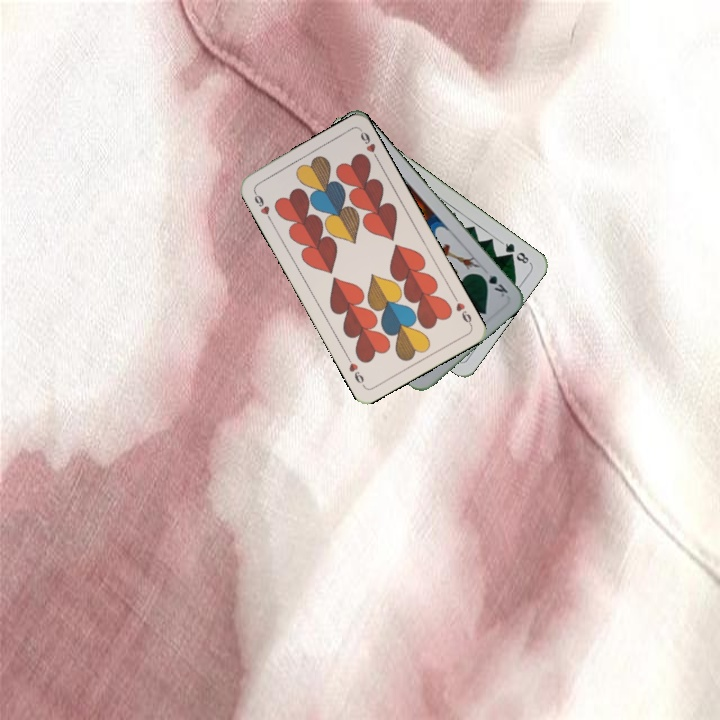G8: (498, 238, 533, 266)
GK: (476, 268, 511, 299)
H9: (449, 291, 474, 328), (250, 187, 275, 224)
